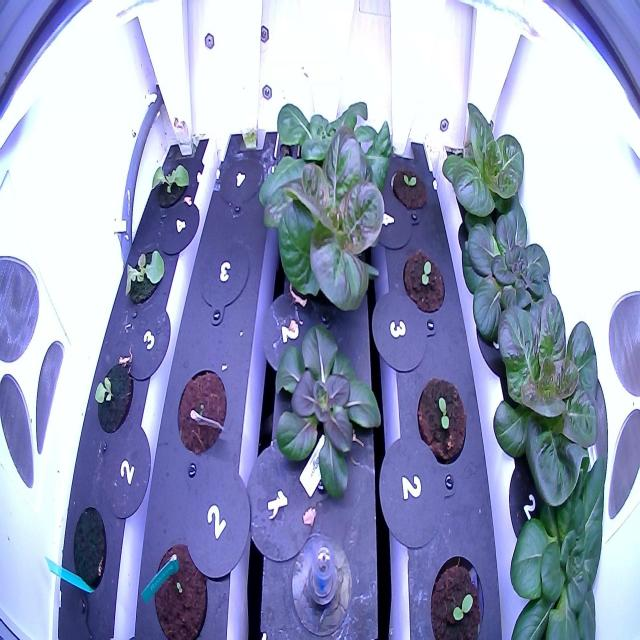empty_pod: (197, 234, 253, 330), (218, 150, 266, 220)
germination: (150, 540, 212, 639), (425, 544, 487, 638), (413, 370, 468, 466), (91, 356, 136, 437), (400, 244, 448, 317), (387, 161, 430, 216)
pod: (174, 363, 228, 458), (70, 498, 108, 594)
young: (486, 278, 605, 514), (265, 118, 393, 322), (264, 311, 388, 519), (502, 441, 610, 640), (253, 90, 398, 231), (456, 190, 560, 356), (438, 88, 530, 235), (116, 235, 172, 315), (146, 151, 196, 219)
